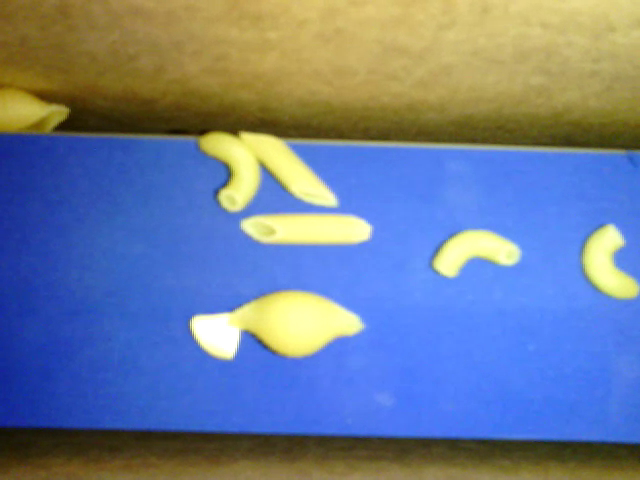elbow: (429, 217, 523, 287), (193, 129, 266, 212), (583, 218, 636, 306)
penne: (235, 121, 341, 214), (240, 212, 379, 246)
shell: (229, 287, 365, 358), (5, 86, 77, 137)
